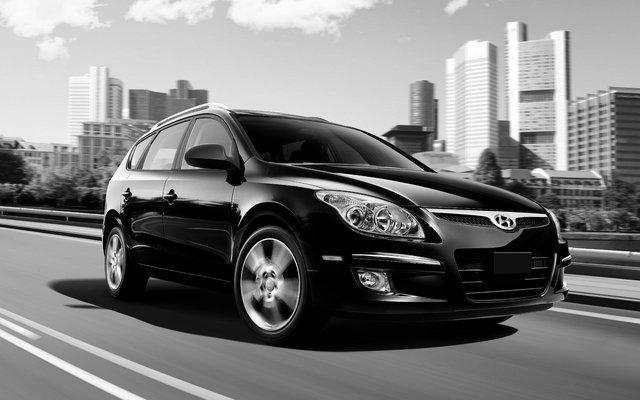car: (96, 102, 571, 354)
